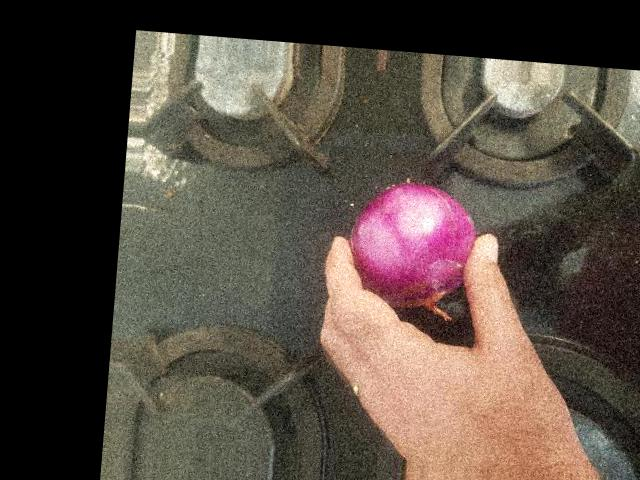onion: (246, 106, 372, 240)
